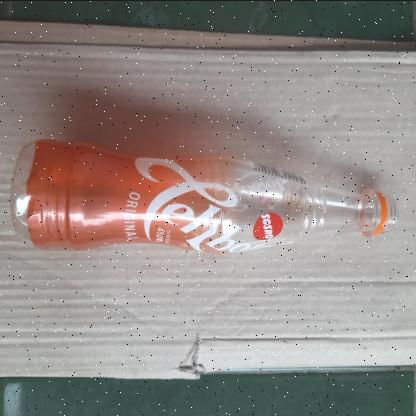Plastic Bottle: (12, 136, 396, 254)
